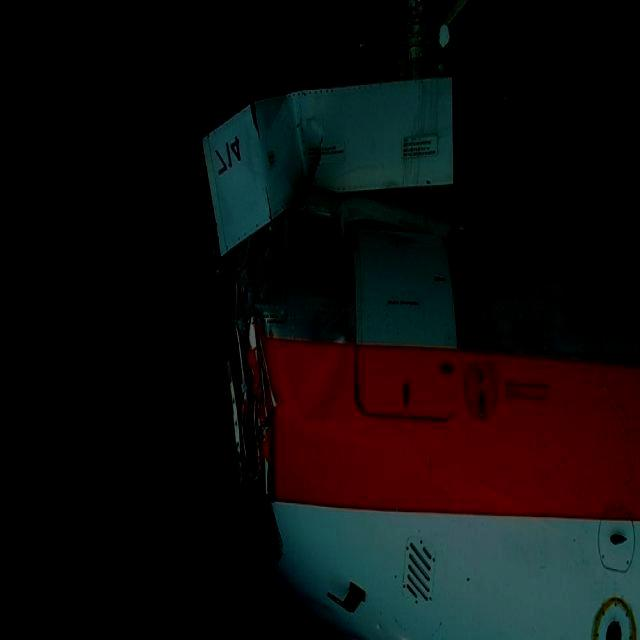dent: (299, 332, 352, 426)
